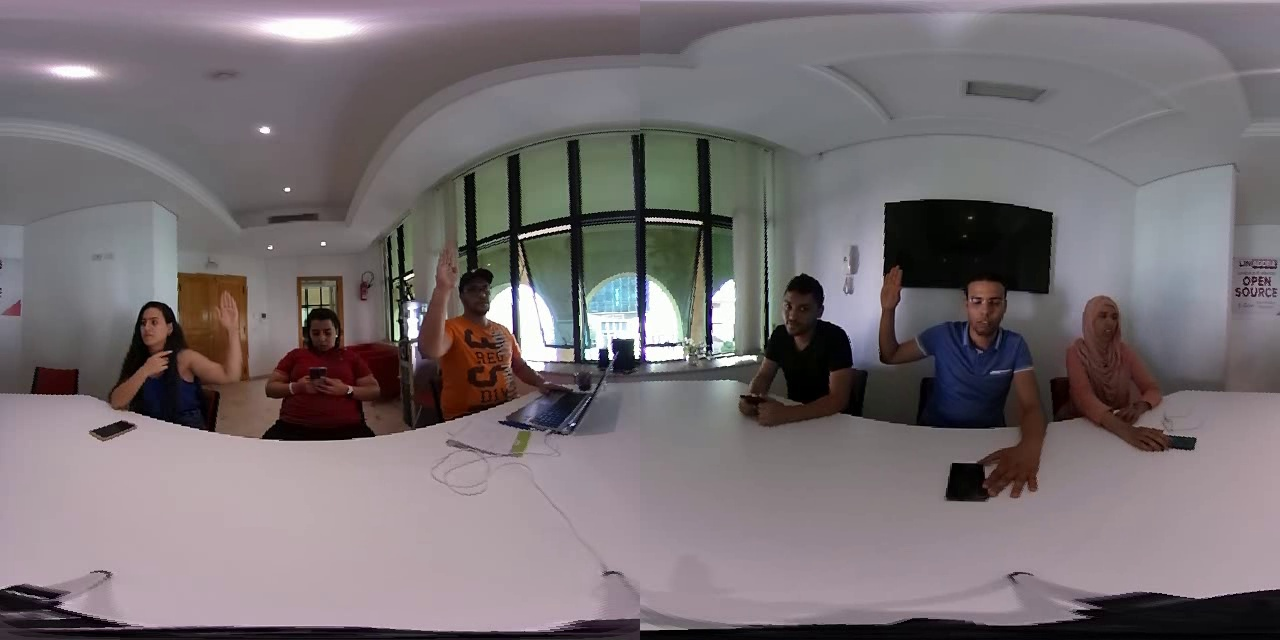person: (859, 243, 1059, 495), (393, 234, 559, 420), (1064, 284, 1203, 468), (106, 281, 255, 427), (733, 266, 853, 427), (262, 291, 384, 446)
voting: (872, 256, 947, 370), (177, 292, 253, 387), (407, 241, 465, 362)
